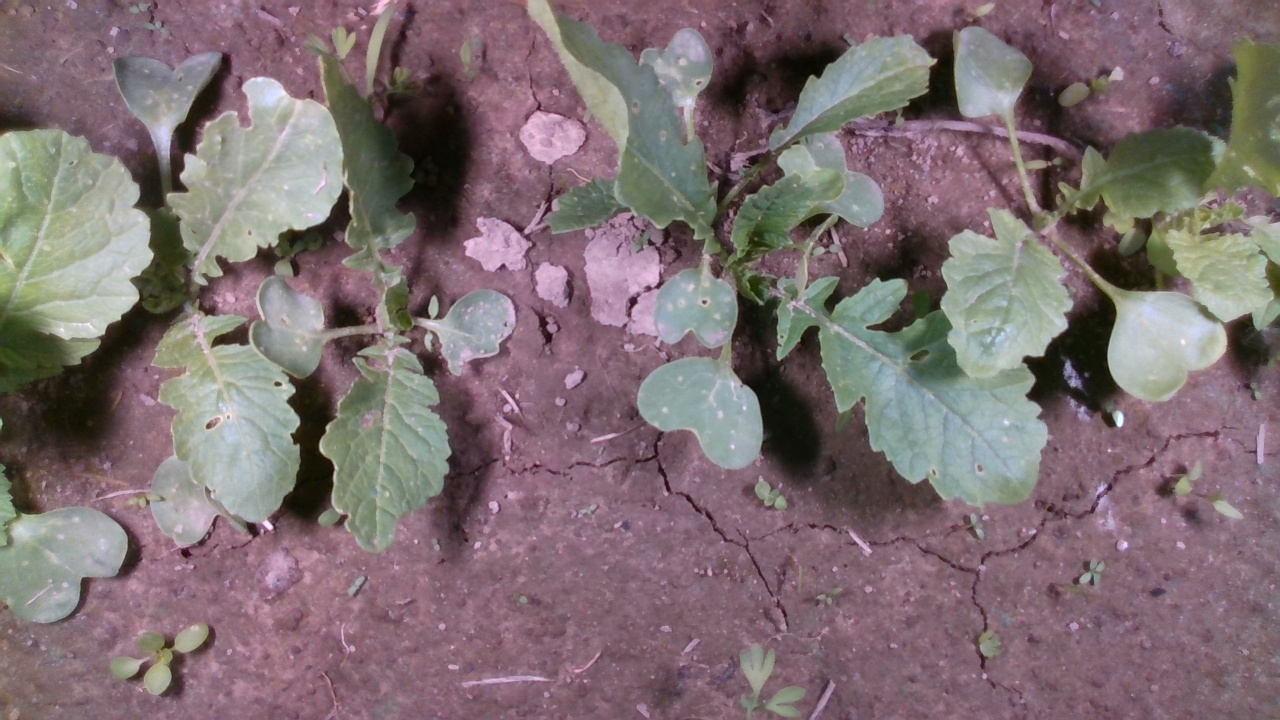weed: (1056, 70, 1112, 107), (1173, 459, 1202, 499), (754, 479, 789, 511), (1210, 497, 1249, 525), (454, 38, 478, 83), (977, 627, 1006, 662), (1079, 556, 1106, 588), (813, 586, 843, 607), (970, 510, 986, 542), (1249, 379, 1262, 403)
